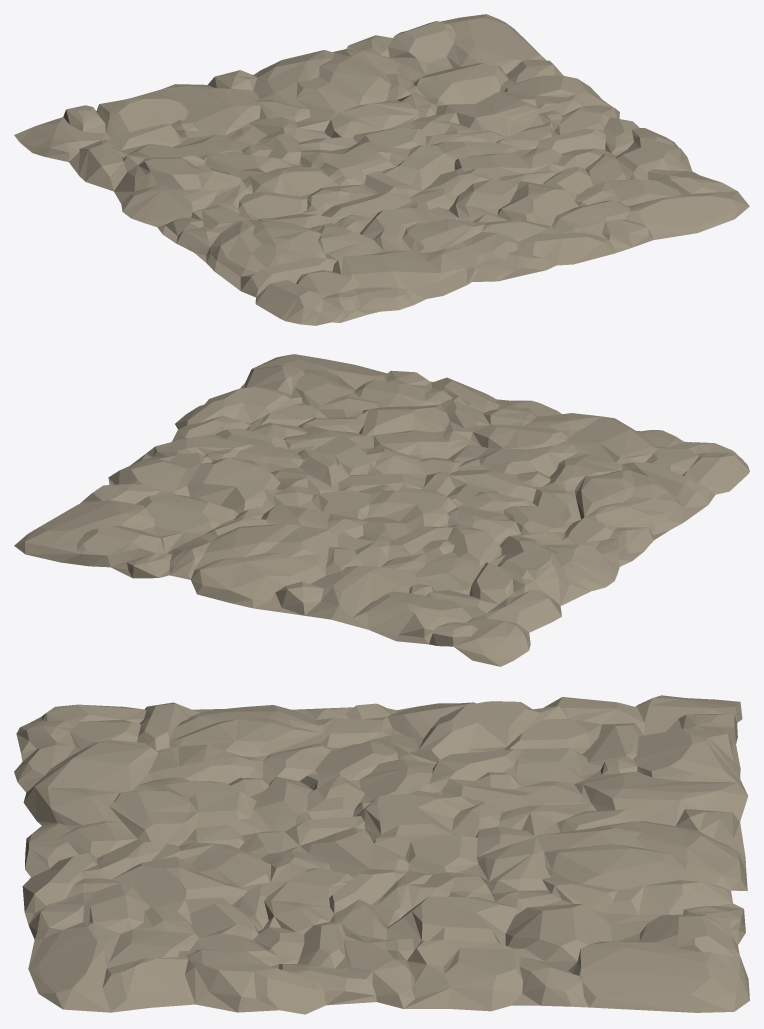
Rendered from SM_Rock_Tile_01.glb.
3 renders of one model, top to bottom at view 1: azimuth 30°, elevation 25°; view 2: azimuth 150°, elevation 25°; view 3: azimuth 270°, elevation 25°, orthographic. The views are drawn at different scales.
Parts seen in each view (by area): view 1: SM_Rock_Tile_01; view 2: SM_Rock_Tile_01; view 3: SM_Rock_Tile_01.
Part boxes in pixels (<box>): SM_Rock_Tile_01: <box>14,14,749,325</box>; SM_Rock_Tile_01: <box>14,354,749,666</box>; SM_Rock_Tile_01: <box>14,695,749,1014</box>.
Bounding box in the file's own units: 12.92 × 0.6976 × 12.72.
1 material, 1 textured.
